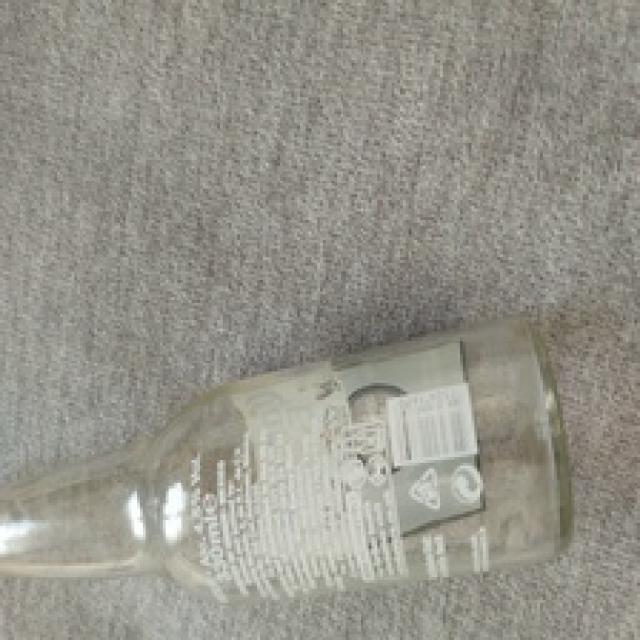Glass: (0, 313, 571, 605)
